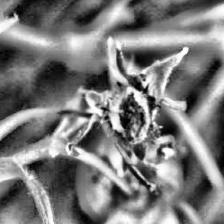Gray Mold: (57, 36, 189, 166)
